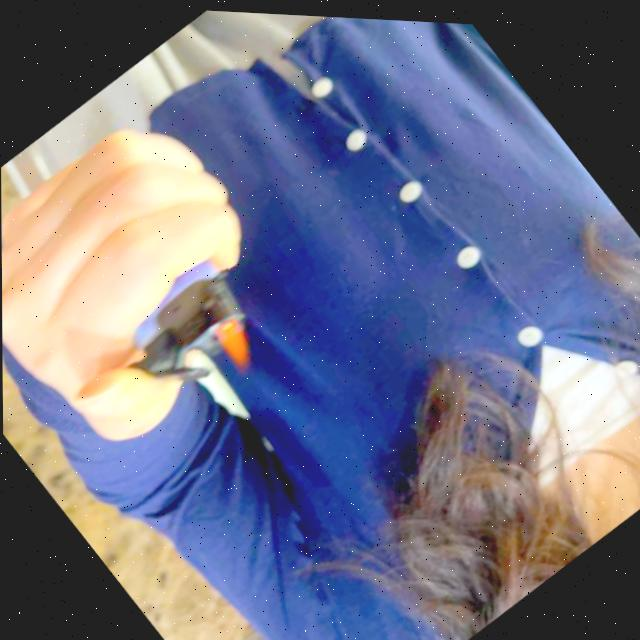Fire: (206, 309, 268, 374)
